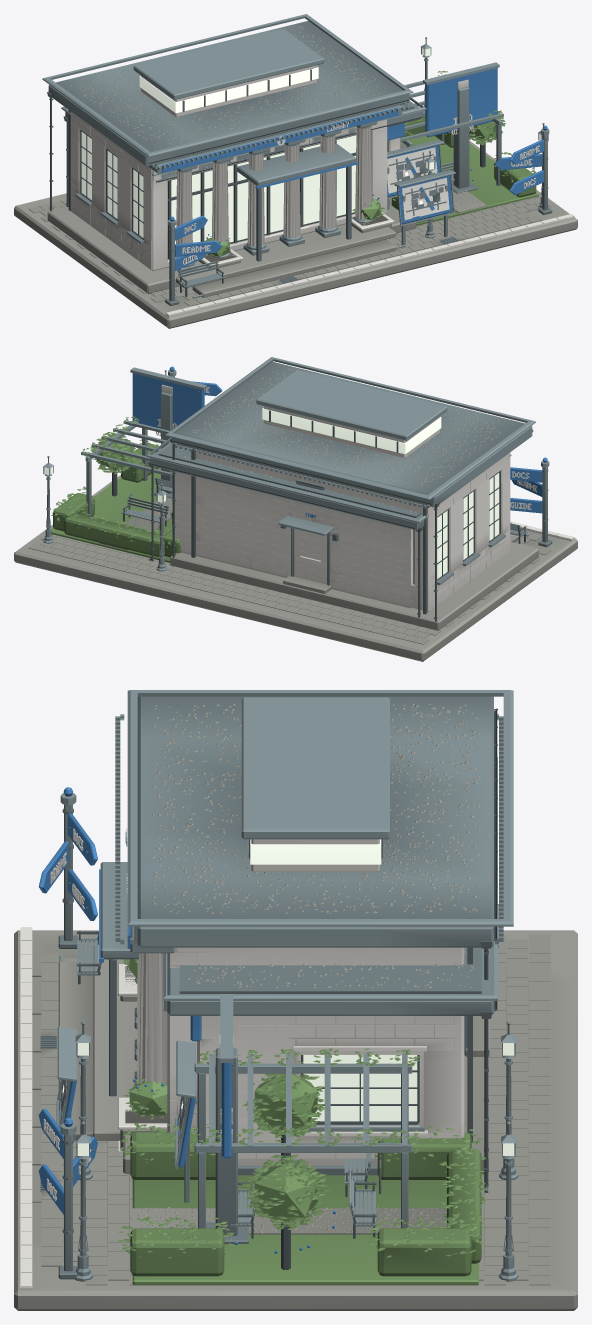
Rendered from info-centre-near.glb.
3 renders of one model, top to bottom at view 1: azimuth 30°, elevation 25°; view 2: azimuth 150°, elevation 25°; view 3: azimuth 270°, elevation 25°, orthographic. The views are drawn at different scales.
Visible parts, largest first — view 1: Info3Near, Info1Near, Info2Near; view 2: Info3Near, Info2Near, Info1Near; view 3: Info3Near, Info1Near, Info2Near.
Boxes of the visible parts, x1,y1,x2,y2 form: Info3Near: (42, 14, 548, 298); Info1Near: (14, 107, 577, 328); Info2Near: (61, 62, 519, 296); Info3Near: (43, 357, 538, 630); Info2Near: (130, 367, 542, 626); Info1Near: (14, 366, 577, 661); Info3Near: (39, 690, 518, 1285); Info1Near: (14, 787, 577, 1310); Info2Near: (56, 757, 497, 1243).
Bounding box in the file's own units: 17.4 × 6.98 × 11.4.
